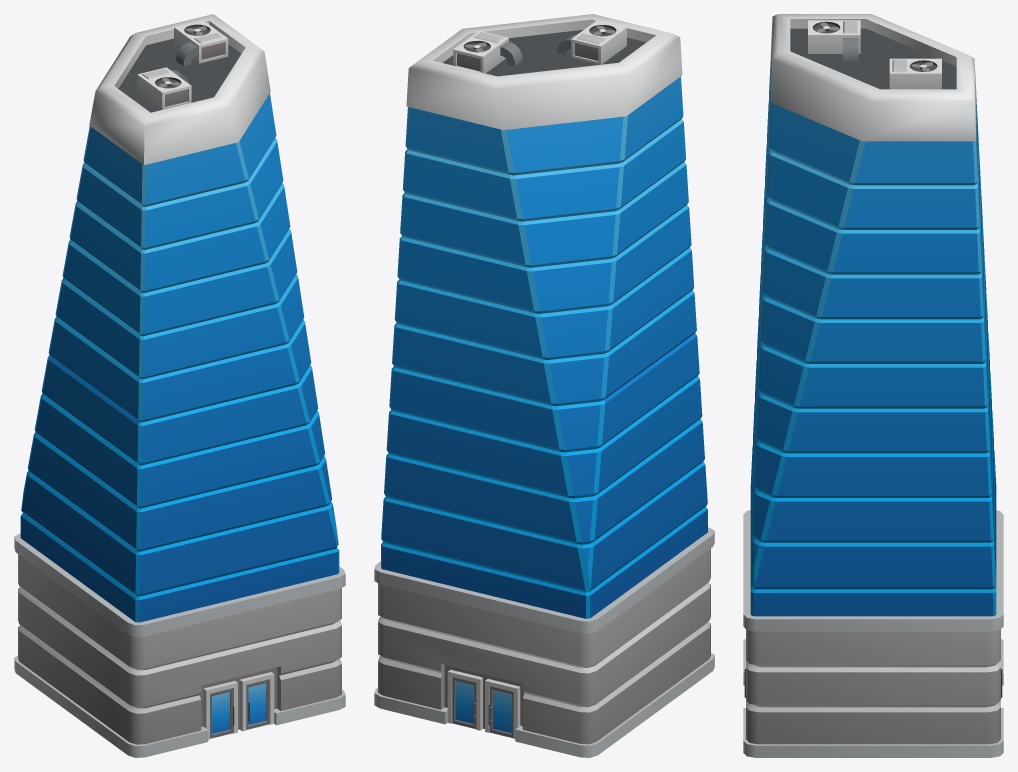
The model's file is business_center_004.glb.
3 renders of one model, left to right at view 1: azimuth 30°, elevation 25°; view 2: azimuth 150°, elevation 25°; view 3: azimuth 270°, elevation 25°, orthographic. The views are drawn at different scales.
Visible parts, largest first — view 1: business_center_004; view 2: business_center_004; view 3: business_center_004.
Boxes of the visible parts, x1,y1,x2,y2 form: business_center_004: (14, 14, 345, 757); business_center_004: (374, 14, 714, 757); business_center_004: (743, 14, 1003, 757).
Size of the model in its own units: 10.91 by 30.44 by 10.91.
2 materials, 2 textured.
